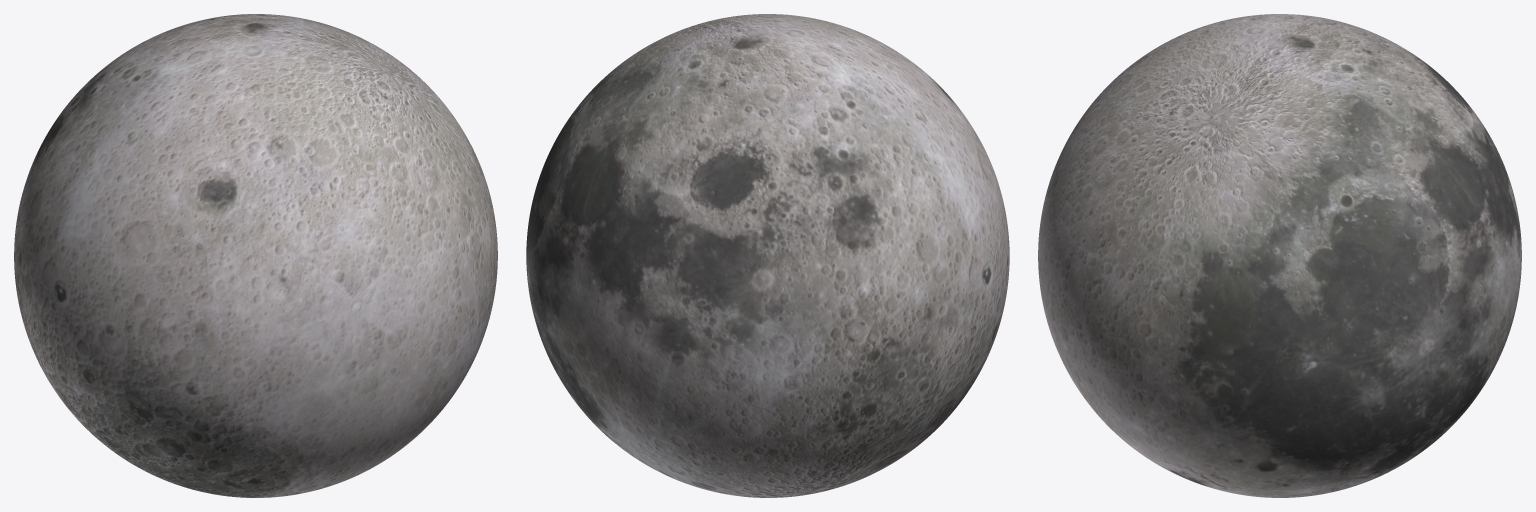
File: moon_web.glb
3 renders of one model, left to right at view 1: azimuth 30°, elevation 25°; view 2: azimuth 150°, elevation 25°; view 3: azimuth 270°, elevation 25°, orthographic.
Visible parts, largest first — view 1: Sphere; view 2: Sphere; view 3: Sphere.
Part boxes in pixels (bbox=[...]): Sphere: bbox=[14, 14, 497, 497]; Sphere: bbox=[526, 14, 1009, 497]; Sphere: bbox=[1038, 14, 1521, 497].
Bounding box in the file's own units: 2 × 2 × 2.
1 material, 1 textured.
